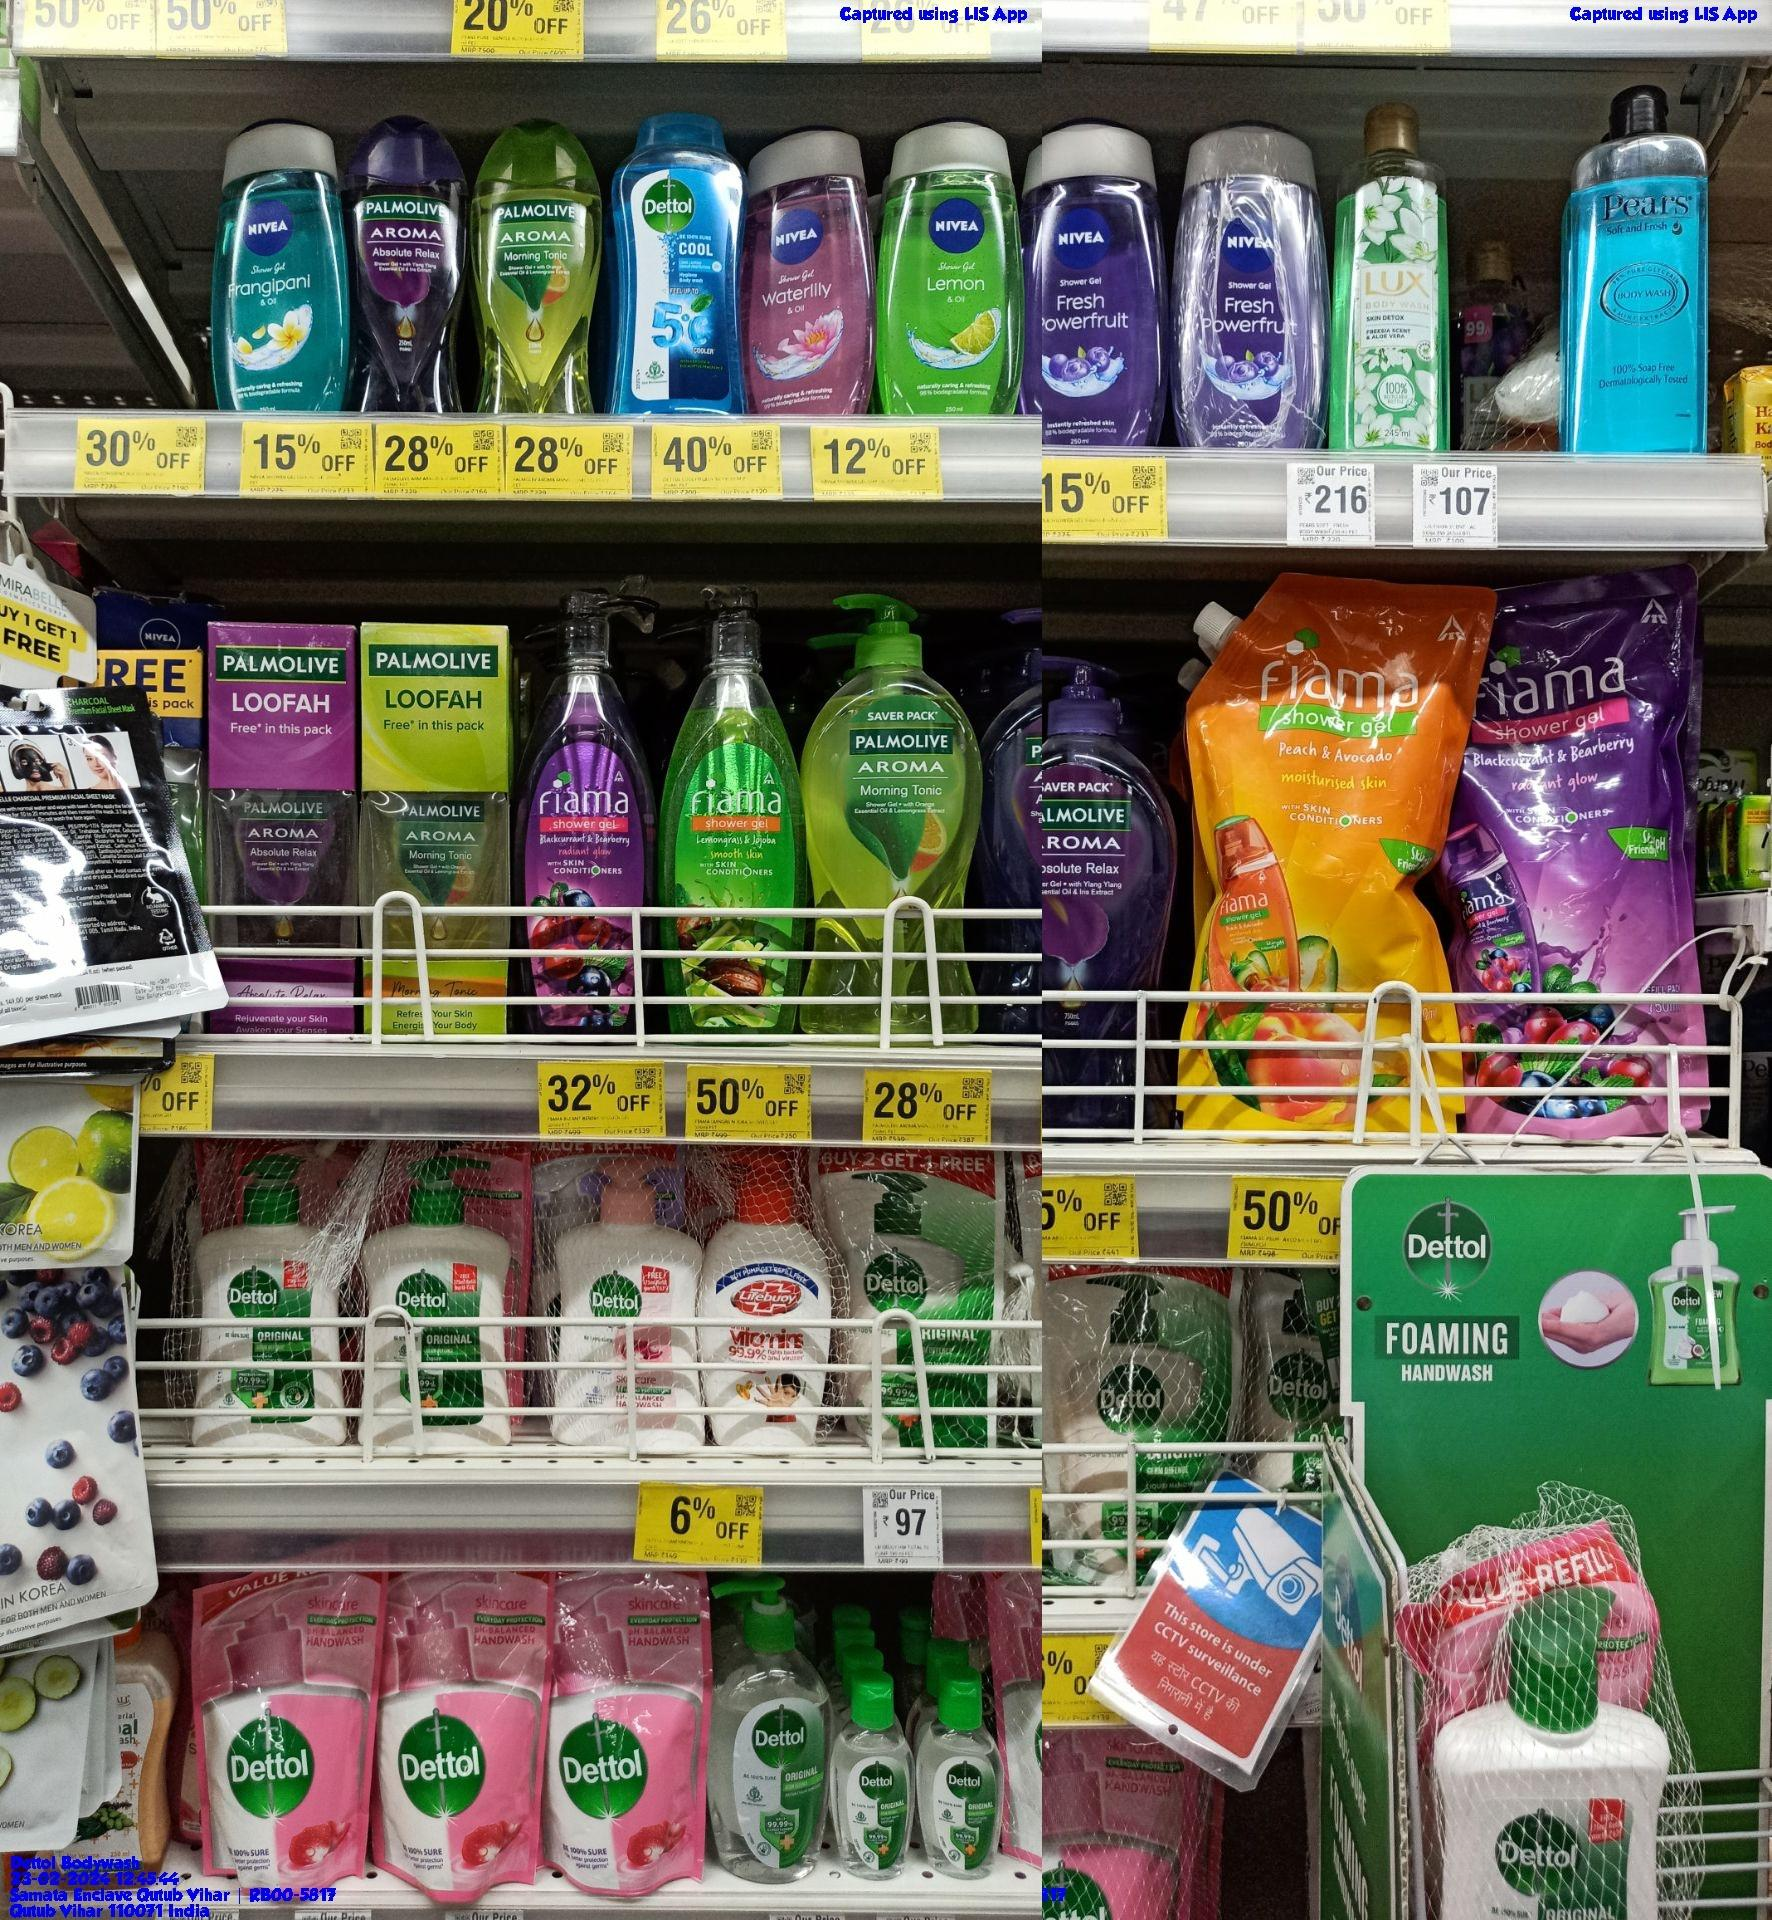Dettol_Bodywash_Cool: (612, 107, 744, 415)
Lux_Body_Wash_Skin_Detox_Freesia_Scent_and_Alove_Vera_245ML: (1329, 104, 1446, 448)
Nivea_Shower_Gel_Frangipani_and_Oil_250ML: (214, 115, 353, 418)
Nivea_Shower_Gel_Fresh_Powerfruit_250ML: (1177, 119, 1324, 453), (1036, 125, 1167, 452)
Nivea_Shower_Gel_Lemon_and_Oil_250ML: (873, 125, 1018, 423)
Nivea_Shower_Gel_Waterlily_and_Oil_250ML: (749, 117, 871, 415)
Palmolive_Aroma_Morning_Tonic_Shower_Gel_250ML: (475, 114, 602, 410)
Palmolive_Aroma_Relax_250ML: (358, 104, 468, 418)
Pears_Pure_Glycerin_and_Mint_Extracts_Body_Wash_250ML: (1571, 79, 1707, 463)
